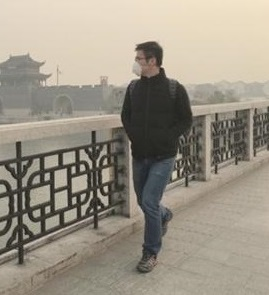person: (120, 40, 195, 273)
